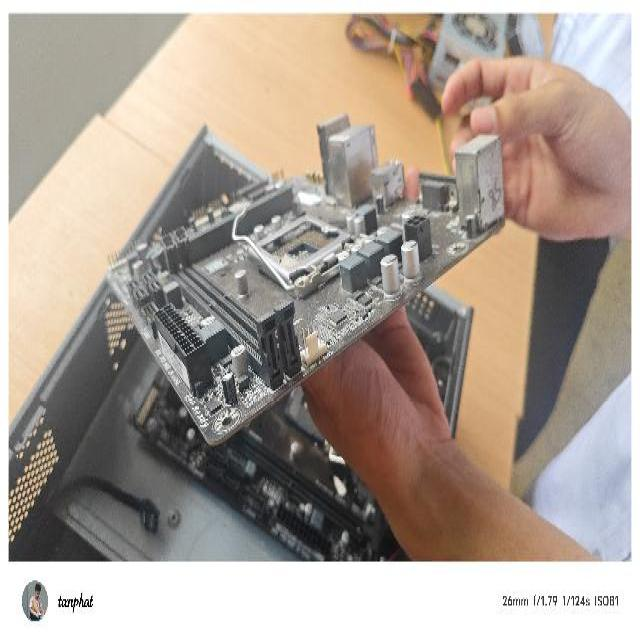Mainboard: (96, 96, 508, 448)
